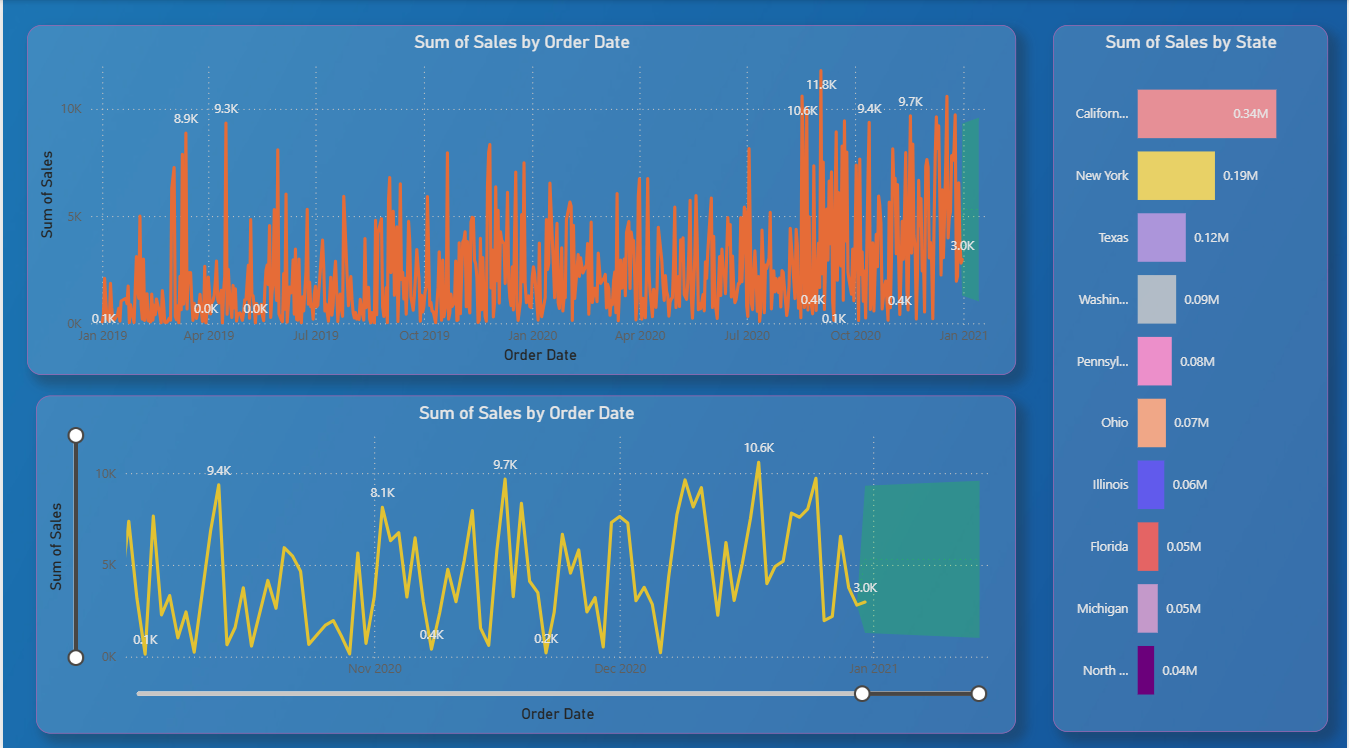

What the dashboard file says about the page in this screenshot:
{"tool":"powerbi","page":{"name":"Page 2","canvas":[1280,720],"ordinal":1},"visuals":[{"type":"lineChart","fields":{"Y":["Sum(SuperStore_Sales_Dataset.Sales)"],"Category":["SuperStore_Sales_Dataset.Order Date"]},"box":[22.8,26,941.8,333.4],"z":0},{"type":"lineChart","fields":{"Y":["Sum(SuperStore_Sales_Dataset.Sales)"],"Category":["SuperStore_Sales_Dataset.Order Date"]},"box":[30.9,379,933.6,322.1],"z":1000},{"type":"clusteredBarChart","fields":{"Category":["SuperStore_Sales_Dataset.State"],"Y":["Sum(SuperStore_Sales_Dataset.Sales)"]},"box":[1000.3,26,261.9,673.4],"z":2000}]}

Visuals, with their boxes in screenshot pixels (x1, y1, x2, y2), scaled from the page's 1280x720 canvas onto the 1349x748 screenshot:
lineChart - Sum(SuperStore_Sales_Dataset.Sales) x SuperStore_Sales_Dataset.Order Date: select_region(24, 27, 1017, 373)
lineChart - Sum(SuperStore_Sales_Dataset.Sales) x SuperStore_Sales_Dataset.Order Date: select_region(33, 394, 1016, 728)
clusteredBarChart - SuperStore_Sales_Dataset.State x Sum(SuperStore_Sales_Dataset.Sales): select_region(1054, 27, 1330, 727)
